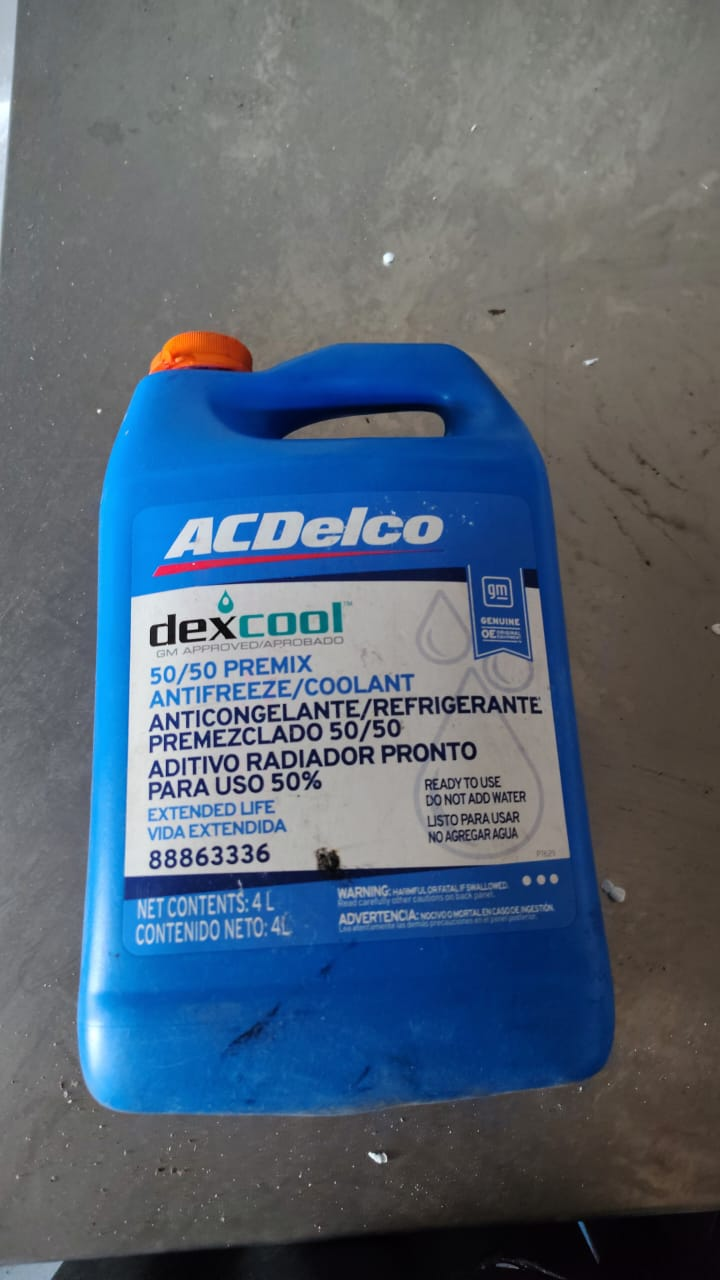Plastico: (73, 330, 614, 1116)
